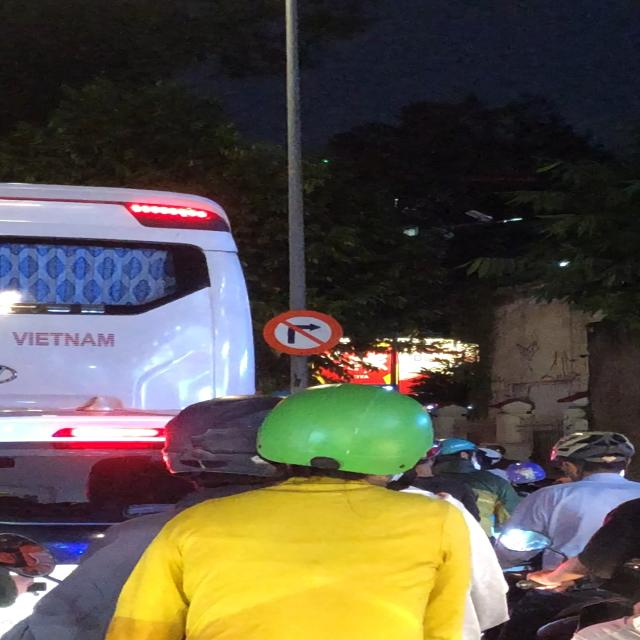Bien bao cam re phai: (258, 307, 349, 360)
